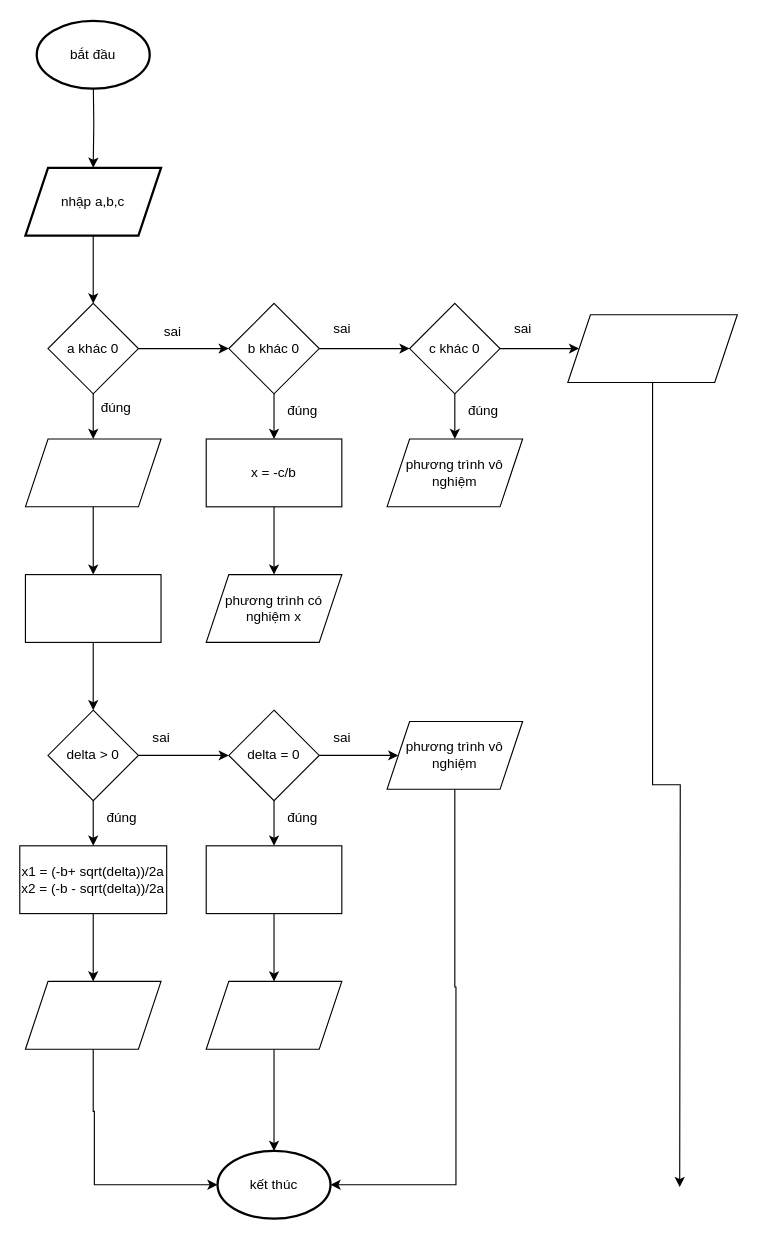
Some shapes in this 757 by 1238 pixel diagram are drawn without their labels. The shapes that lost their labels are listed below. From the top down, each one's box as (x1, y1, x2, y2) in pixels, then its label:
(567, 314, 737, 383): phương trình có vô số nghiệm
(24, 438, 161, 507): tính delta
(24, 573, 161, 642): delta = b*b-4*a*c
(205, 845, 342, 914): x = -b/2a
(24, 980, 161, 1049): phương trình có nghiệm x1, x2
(205, 980, 342, 1049): phương trình có nghiệm kép x
